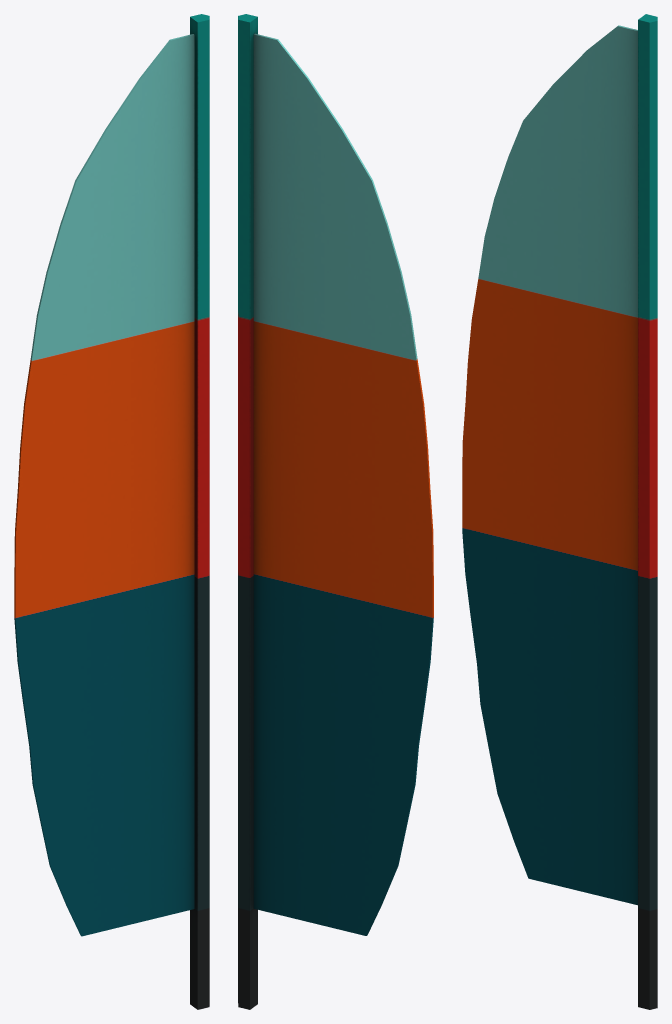
Rendered from Flag_04_1.fbx.
3 renders of one model, left to right at view 1: azimuth 30°, elevation 25°; view 2: azimuth 150°, elevation 25°; view 3: azimuth 330°, elevation 25°, orthographic.
Parts seen in each view (by area): view 1: Flag_04_1; view 2: Flag_04_1; view 3: Flag_04_1.
Part boxes in pixels (x1,y1,x2,y2): Flag_04_1: (14,14,209,1009); Flag_04_1: (238,14,433,1009); Flag_04_1: (462,14,657,1009).
Size of the model in its own units: 0.0479 by 0.2321 by 0.00335.
